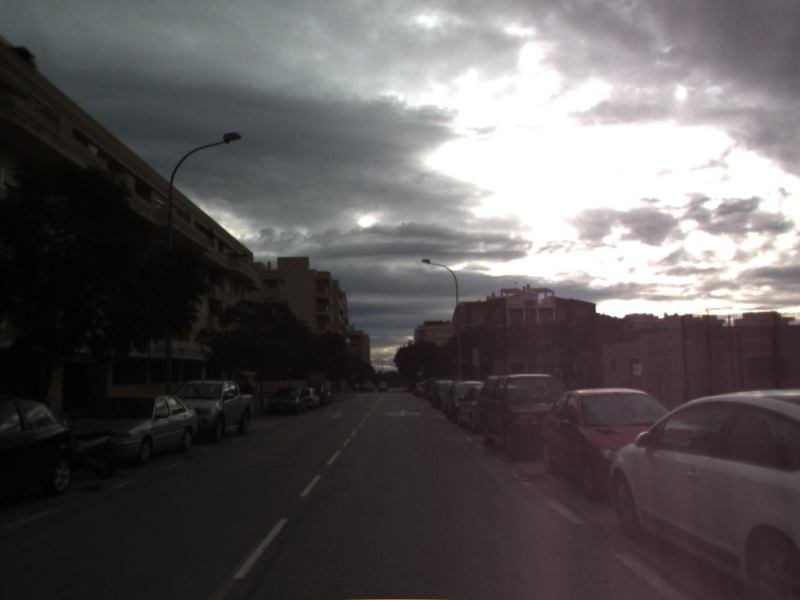STRAIGHT_LEFT_RIGHT: (382, 407, 423, 419)
